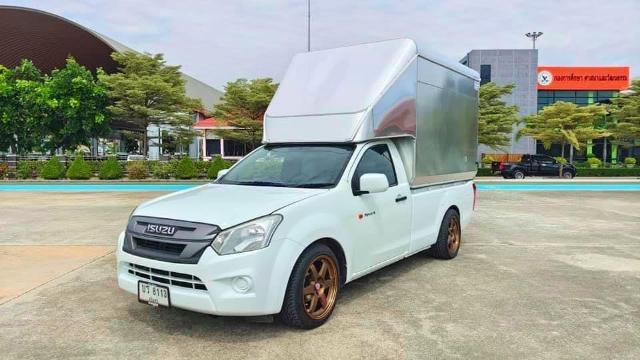pickup-truck: (116, 29, 493, 335)
